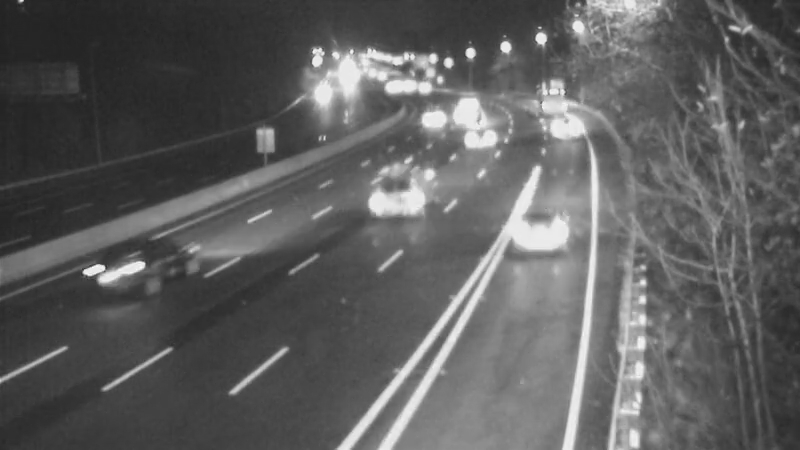vehicle: (360, 167, 440, 247), (503, 199, 583, 279), (72, 233, 152, 313), (364, 66, 414, 116), (399, 63, 449, 113), (518, 67, 568, 117), (439, 73, 489, 123), (438, 89, 488, 139), (397, 93, 447, 143), (452, 96, 502, 146), (538, 105, 588, 155), (456, 110, 506, 160), (298, 69, 348, 119)
